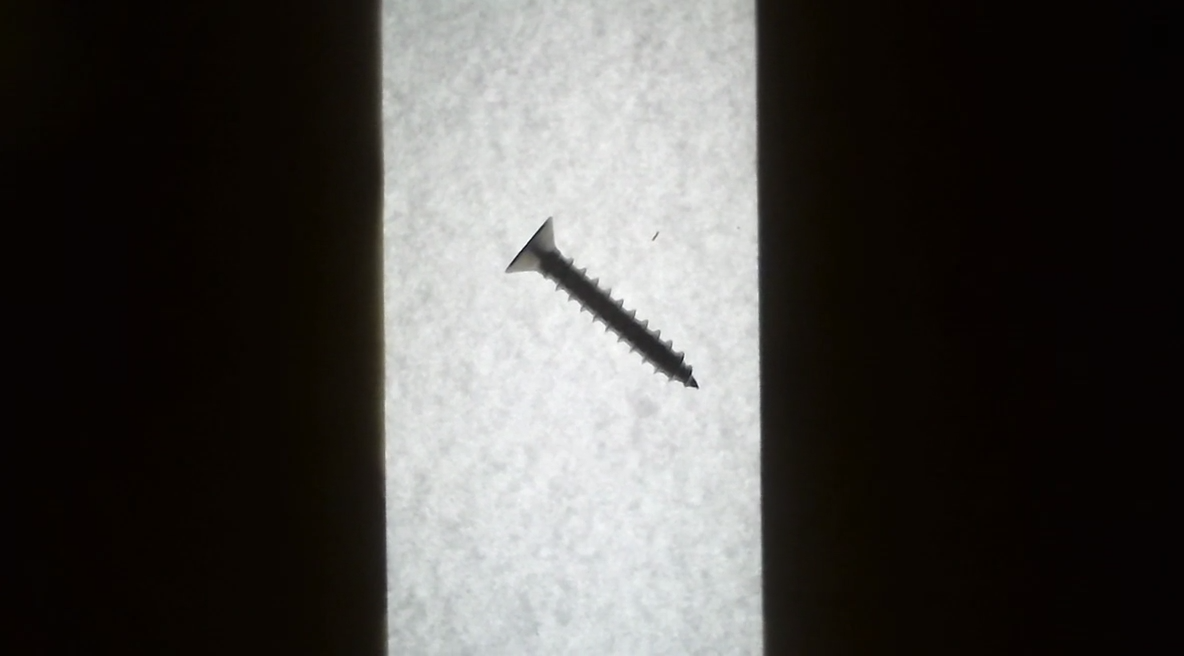S001: (499, 200, 719, 411)
